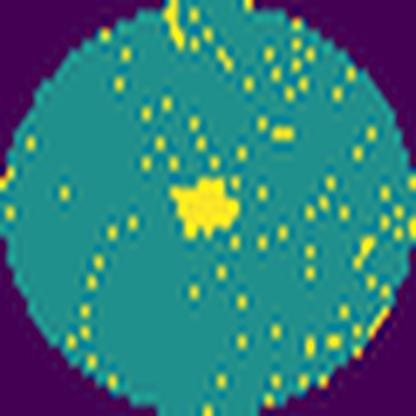Center: (170, 175, 243, 239)
